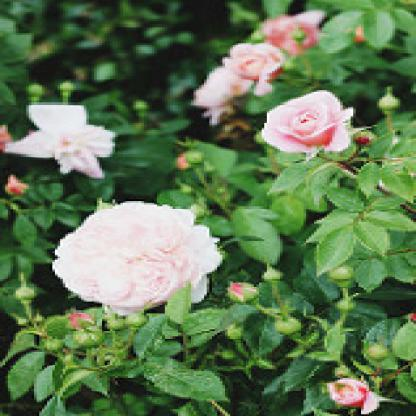Rose-Mawar: (45, 178, 213, 323), (258, 86, 360, 160), (218, 30, 289, 86), (334, 376, 381, 416)
